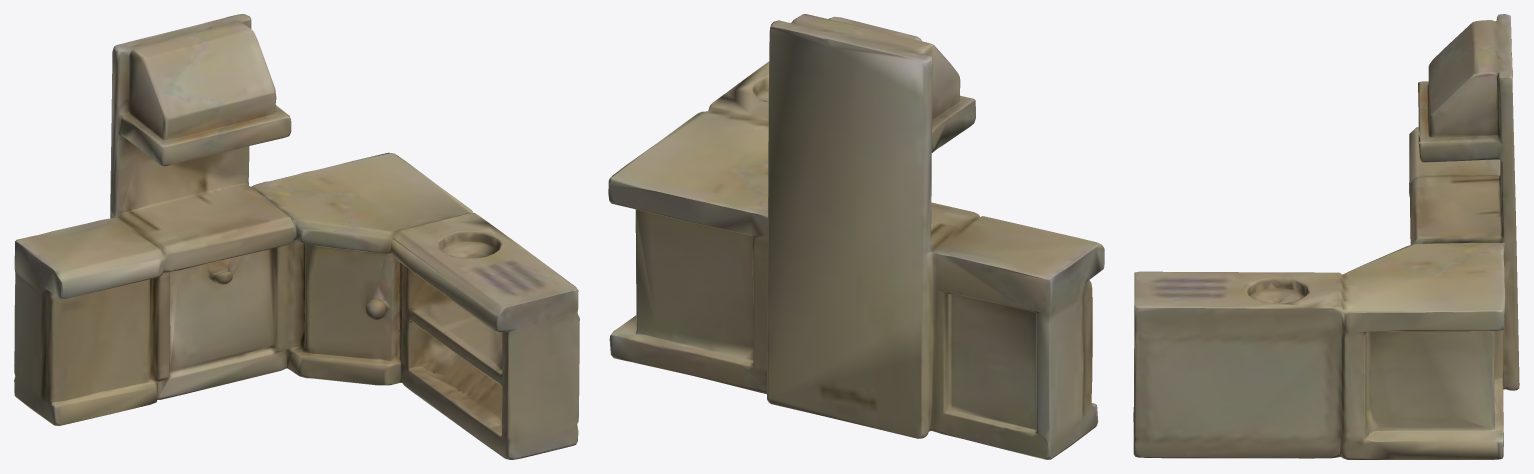
Rendered from KITCHEN_SET_CLASSIC_40HwCHfeG0H-high.glb.
The picture shows the model from 3 angles, left to right: view 1: azimuth 30°, elevation 25°; view 2: azimuth 150°, elevation 25°; view 3: azimuth 270°, elevation 25°; orthographic projection. The views are drawn at different scales.
Parts seen in each view (by area): view 1: KITCHEN_SET_CLASSIC_40HwCHfeG0H; view 2: KITCHEN_SET_CLASSIC_40HwCHfeG0H; view 3: KITCHEN_SET_CLASSIC_40HwCHfeG0H.
Part boxes in pixels (bbox=[...]): KITCHEN_SET_CLASSIC_40HwCHfeG0H: bbox=[14, 14, 579, 459]; KITCHEN_SET_CLASSIC_40HwCHfeG0H: bbox=[608, 14, 1104, 459]; KITCHEN_SET_CLASSIC_40HwCHfeG0H: bbox=[1133, 14, 1519, 459].
Size of the model in its own units: 0.1854 by 0.1513 by 0.1673.
Materials: 1 (1 with a texture image).
